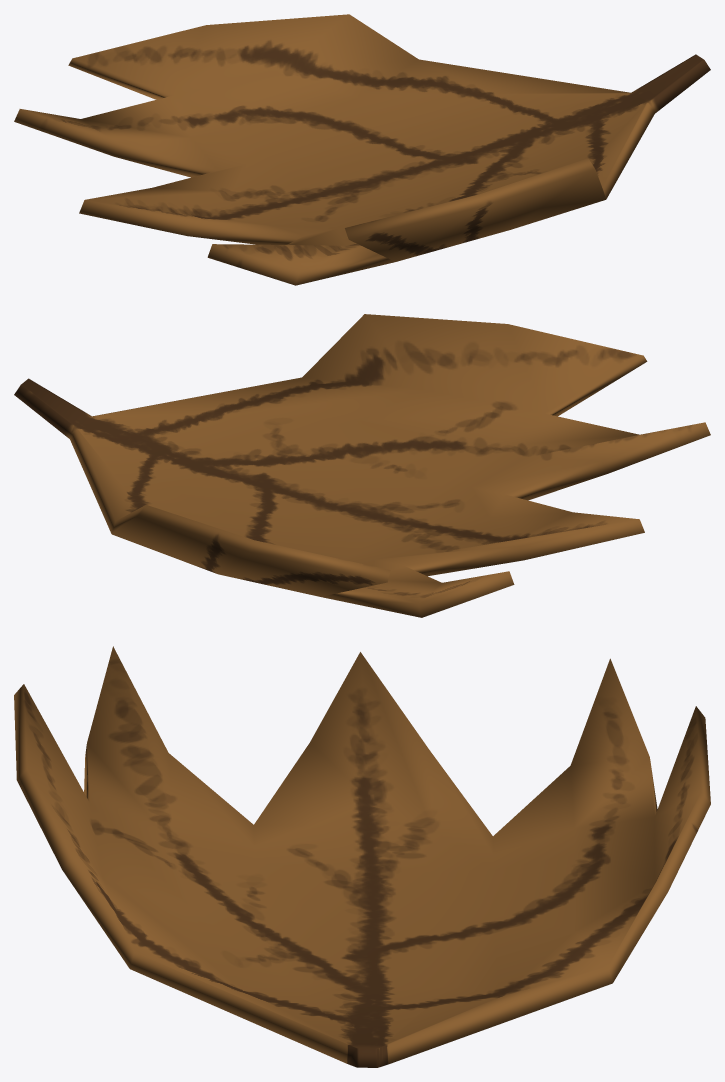
File: Feuille.fbx
The picture shows the model from 3 angles, top to bottom: view 1: azimuth 30°, elevation 25°; view 2: azimuth 150°, elevation 25°; view 3: azimuth 270°, elevation 25°; orthographic projection. The views are drawn at different scales.
Parts seen in each view (by area): view 1: Plane; view 2: Plane; view 3: Plane.
Part boxes in pixels (x1,y1,x2,y2): Plane: [14, 14, 710, 285]; Plane: [14, 314, 710, 617]; Plane: [14, 646, 710, 1067].
Bounding box in the file's own units: 49.19 × 8.04 × 36.96.
Materials: 1 (1 with a texture image).
